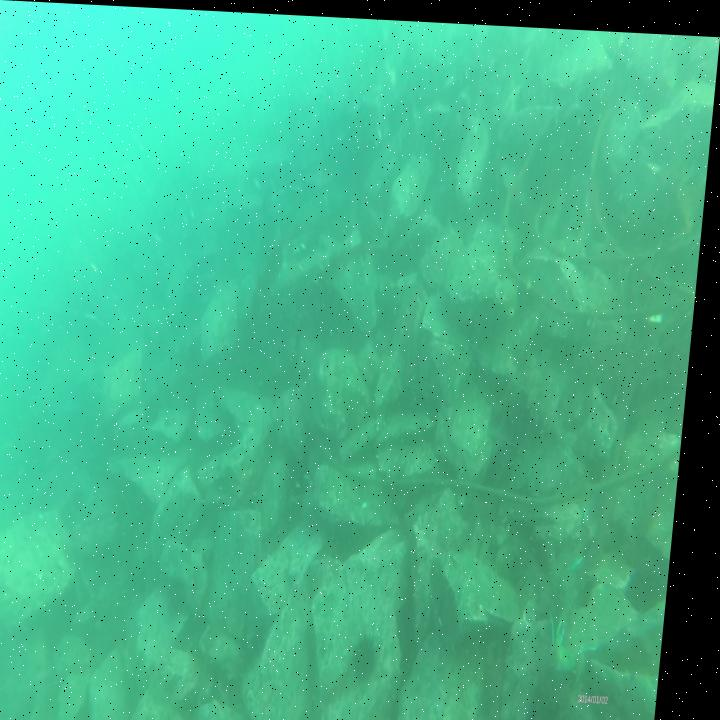echinus: (362, 622, 394, 677)
